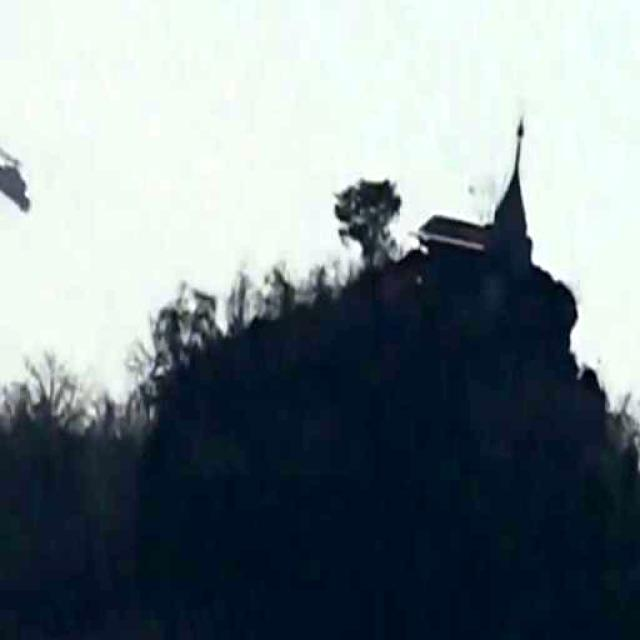drone: (0, 129, 32, 216)
